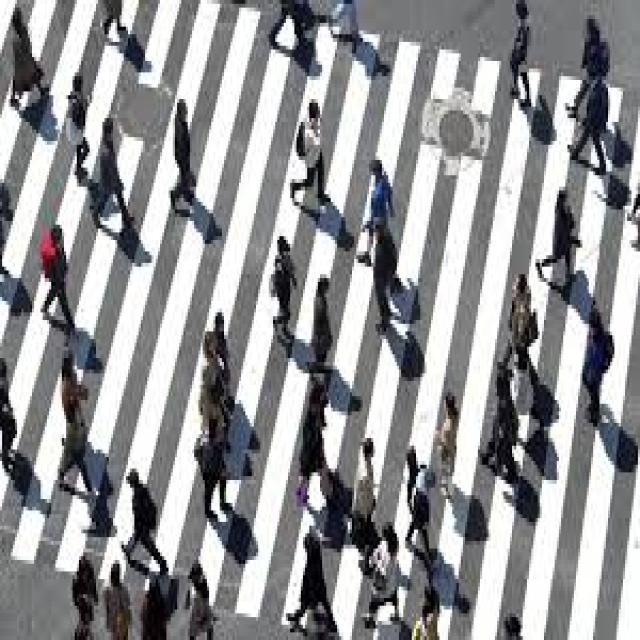Pedestrians: (115, 465, 173, 571), (360, 213, 408, 339), (38, 232, 94, 332), (86, 114, 134, 229), (288, 95, 335, 210), (162, 99, 209, 213), (480, 373, 527, 484), (538, 183, 582, 301), (580, 305, 614, 430), (8, 11, 54, 99), (269, 228, 296, 346), (433, 389, 461, 499)
